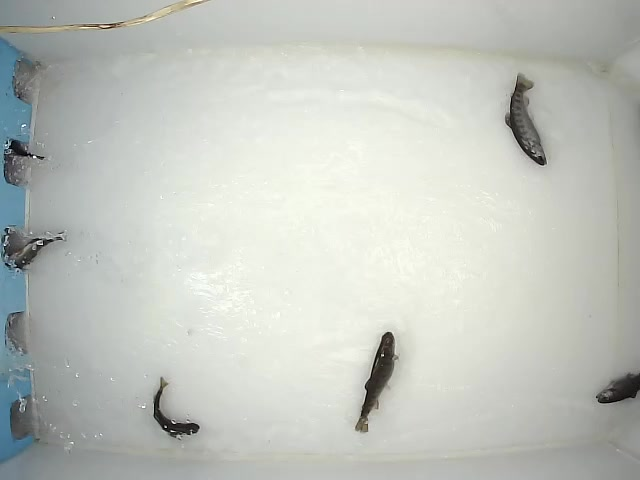fish: (354, 331, 400, 435), (503, 71, 550, 168), (150, 376, 202, 439)
